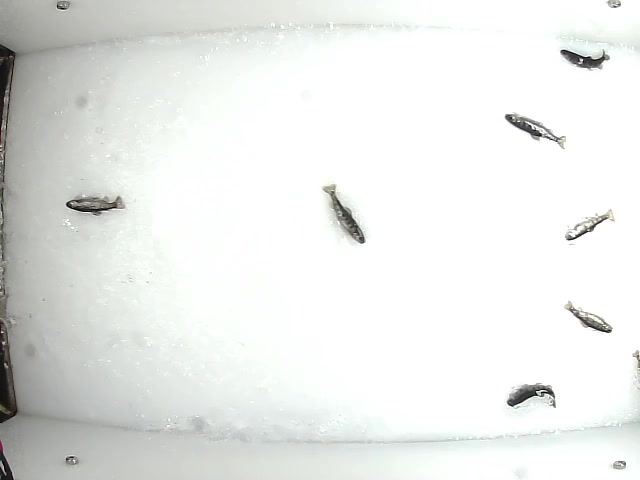fish: (319, 183, 367, 245), (502, 111, 567, 152), (564, 207, 616, 243), (561, 301, 613, 335), (504, 381, 557, 411), (558, 45, 613, 71), (65, 195, 126, 217)
